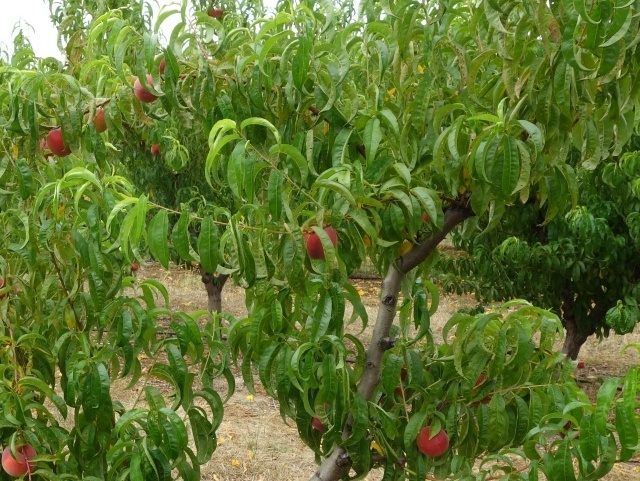peach: (299, 220, 341, 261), (413, 422, 453, 461), (42, 124, 79, 161), (2, 442, 39, 479), (125, 70, 163, 106), (84, 105, 112, 136)
